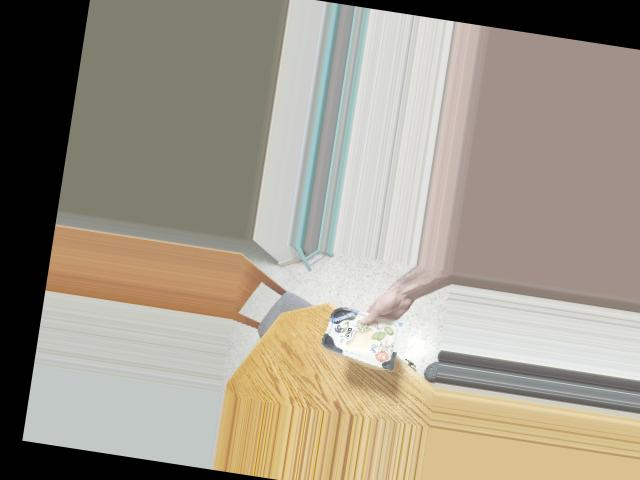cheese: (317, 303, 394, 365)
